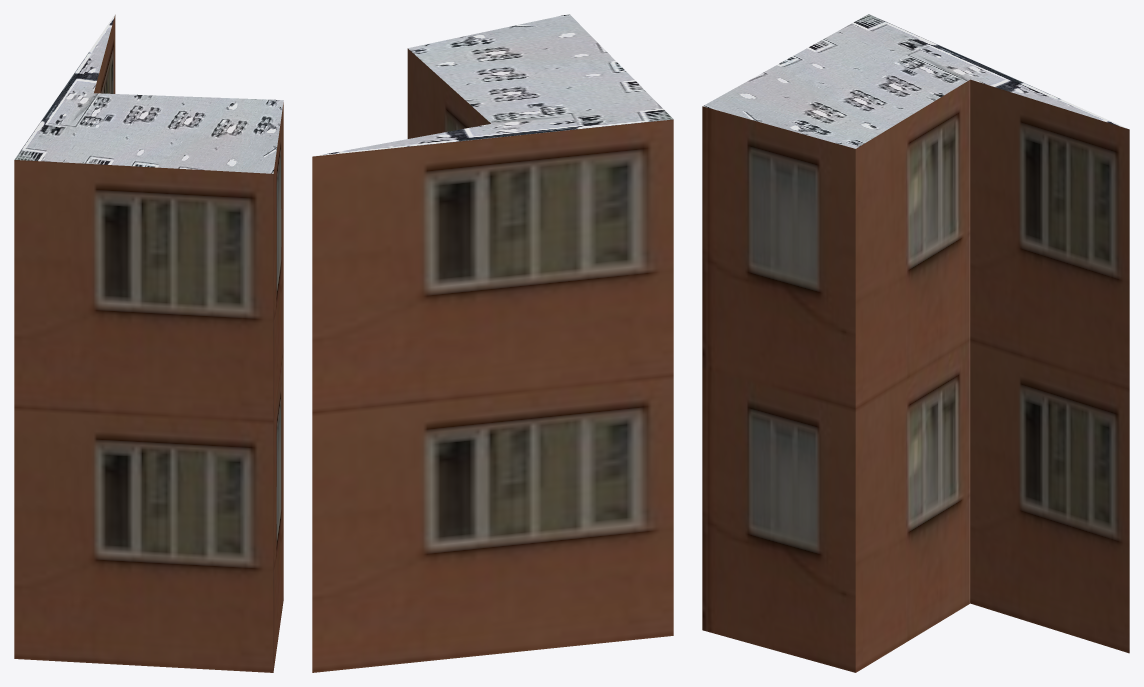
File: ResTex__3187.fbx
3 renders of one model, left to right at view 1: azimuth 30°, elevation 25°; view 2: azimuth 150°, elevation 25°; view 3: azimuth 270°, elevation 25°, orthographic. The views are drawn at different scales.
Visible parts, largest first — view 1: CityEngineMaterial_20_m, CityEngineMaterial_4_m; view 2: CityEngineMaterial_20_m, CityEngineMaterial_4_m; view 3: CityEngineMaterial_20_m, CityEngineMaterial_4_m.
Part boxes in pixels (x1,y1,x2,y2): CityEngineMaterial_20_m: (14, 15, 283, 672); CityEngineMaterial_4_m: (14, 15, 283, 173); CityEngineMaterial_20_m: (312, 48, 673, 672); CityEngineMaterial_4_m: (315, 14, 673, 156); CityEngineMaterial_20_m: (702, 79, 1129, 672); CityEngineMaterial_4_m: (703, 14, 1127, 148).
Bounding box in the file's own units: 3.31 × 6 × 4.43.
2 materials, 2 textured.
